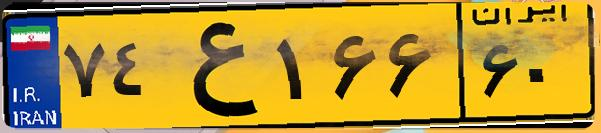0: (525, 38, 570, 115)
1: (270, 28, 330, 110)
4: (110, 28, 158, 98)
6: (385, 28, 445, 110), (330, 28, 385, 110), (475, 38, 525, 113)
7: (57, 26, 110, 100)
ع: (158, 12, 270, 120)
